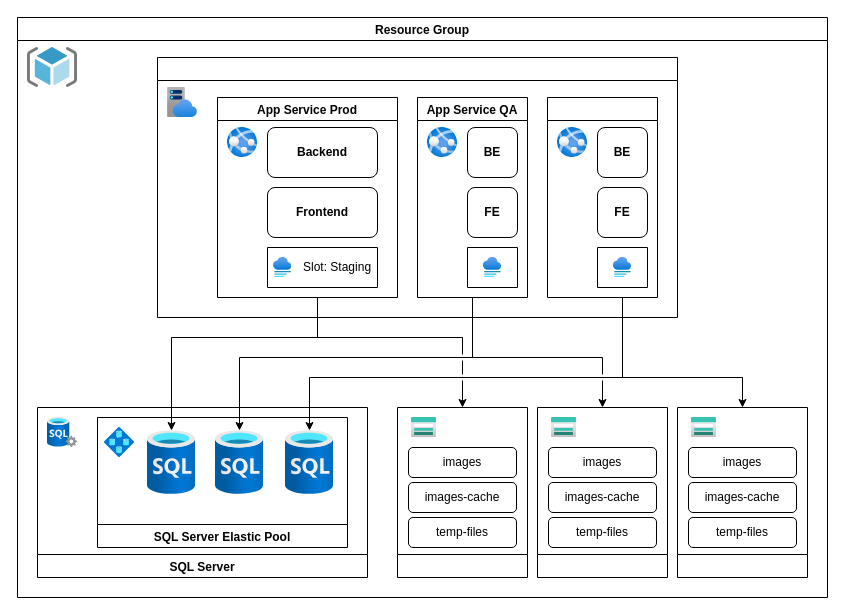
The diagram is 845 pixels wide and 615 high, and some of its shapes have lost their labels. Each missing label, with the box of its shape:
App Service Plan: (156, 56, 678, 318)
App Service UAT: (546, 96, 658, 298)
Prod: (147, 430, 195, 494)
QA: (215, 430, 263, 494)
Storage Account Prod: (396, 406, 528, 578)
Storage Account QA: (536, 406, 668, 578)
Storage Account UAT: (676, 406, 808, 578)
UAT: (285, 430, 333, 494)
